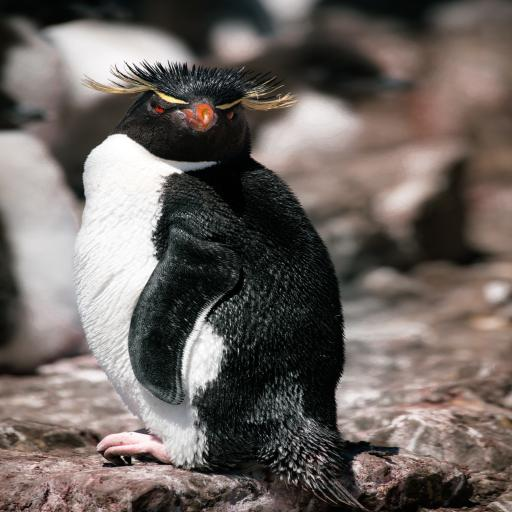penguins: (26, 28, 446, 512)
